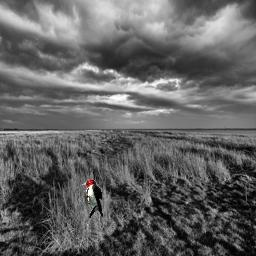Woodpecker: (80, 179, 103, 218)
